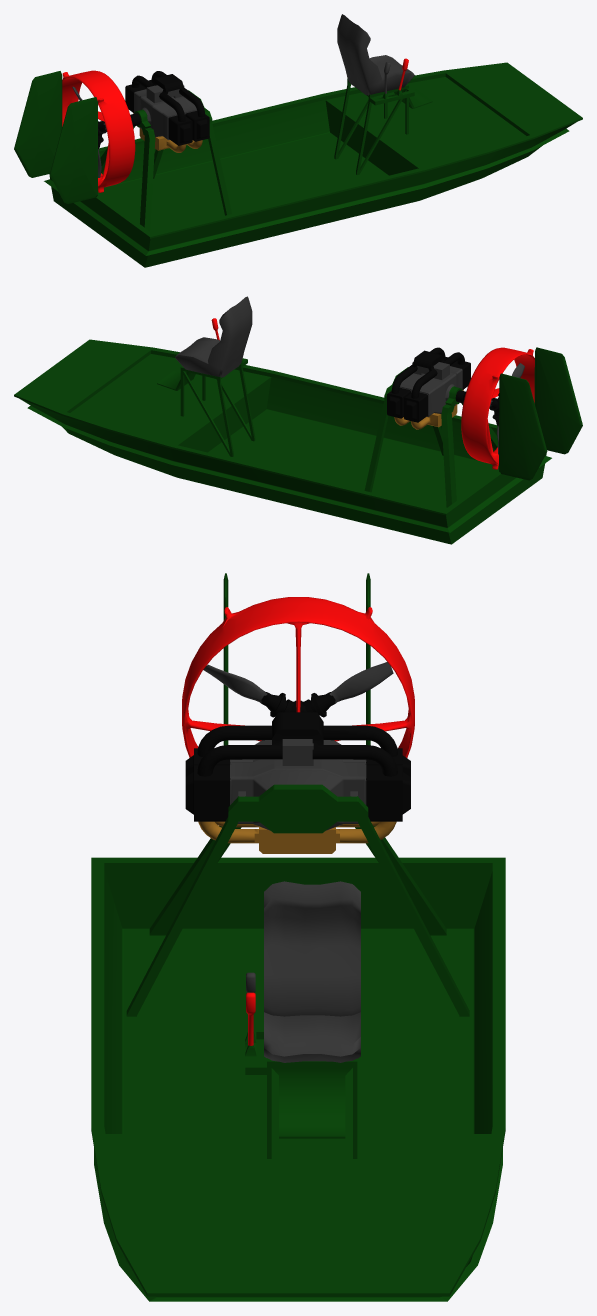
Rendered from AIRBOAT.OBJ.
3 views of the same model, one above another, from view 1: azimuth 30°, elevation 25°; view 2: azimuth 150°, elevation 25°; view 3: azimuth 270°, elevation 25° (orthographic). The views are drawn at different scales.
Parts seen in each view (by area): view 1: boat, rudder, shroud, seat, emounts, stand, engine, intakes, cylinders, exhaust, heads; view 2: boat, rudder, shroud, seat, emounts, stand, engine, intakes, cylinders, exhaust, heads; view 3: boat, seat, emounts, shroud, stand, intakes, engine, cylinders, exhaust, prop, rudder, hub.
Part boxes in pixels (bbox=[...]): boat: bbox=[44, 62, 582, 267]; rudder: bbox=[14, 71, 97, 203]; shroud: bbox=[62, 70, 135, 192]; seat: bbox=[337, 14, 414, 95]; emounts: bbox=[100, 90, 231, 231]; stand: bbox=[334, 78, 432, 174]; engine: bbox=[134, 85, 196, 139]; intakes: bbox=[131, 71, 205, 121]; cylinders: bbox=[125, 79, 209, 145]; exhaust: bbox=[133, 113, 202, 152]; heads: bbox=[180, 120, 207, 142]; boat: bbox=[14, 339, 551, 544]; rudder: bbox=[499, 347, 582, 480]; shroud: bbox=[461, 347, 534, 469]; seat: bbox=[175, 296, 252, 377]; emounts: bbox=[364, 367, 498, 507]; stand: bbox=[157, 358, 255, 456]; engine: bbox=[399, 362, 462, 416]; intakes: bbox=[391, 347, 464, 398]; cylinders: bbox=[387, 356, 470, 422]; exhaust: bbox=[394, 389, 463, 429]; heads: bbox=[389, 397, 416, 419]; boat: bbox=[91, 857, 505, 1301]; seat: bbox=[264, 881, 360, 1062]; emounts: bbox=[126, 784, 469, 1016]; shroud: bbox=[182, 597, 414, 757]; stand: bbox=[245, 1029, 357, 1158]; intakes: bbox=[197, 712, 397, 776]; engine: bbox=[230, 739, 366, 830]; cylinders: bbox=[193, 748, 403, 821]; exhaust: bbox=[198, 821, 396, 853]; prop: bbox=[203, 662, 393, 703]; rudder: bbox=[223, 573, 370, 745]; hub: bbox=[261, 692, 335, 717].
Size of the model in its own units: 2 by 0.5913 by 0.6999.
